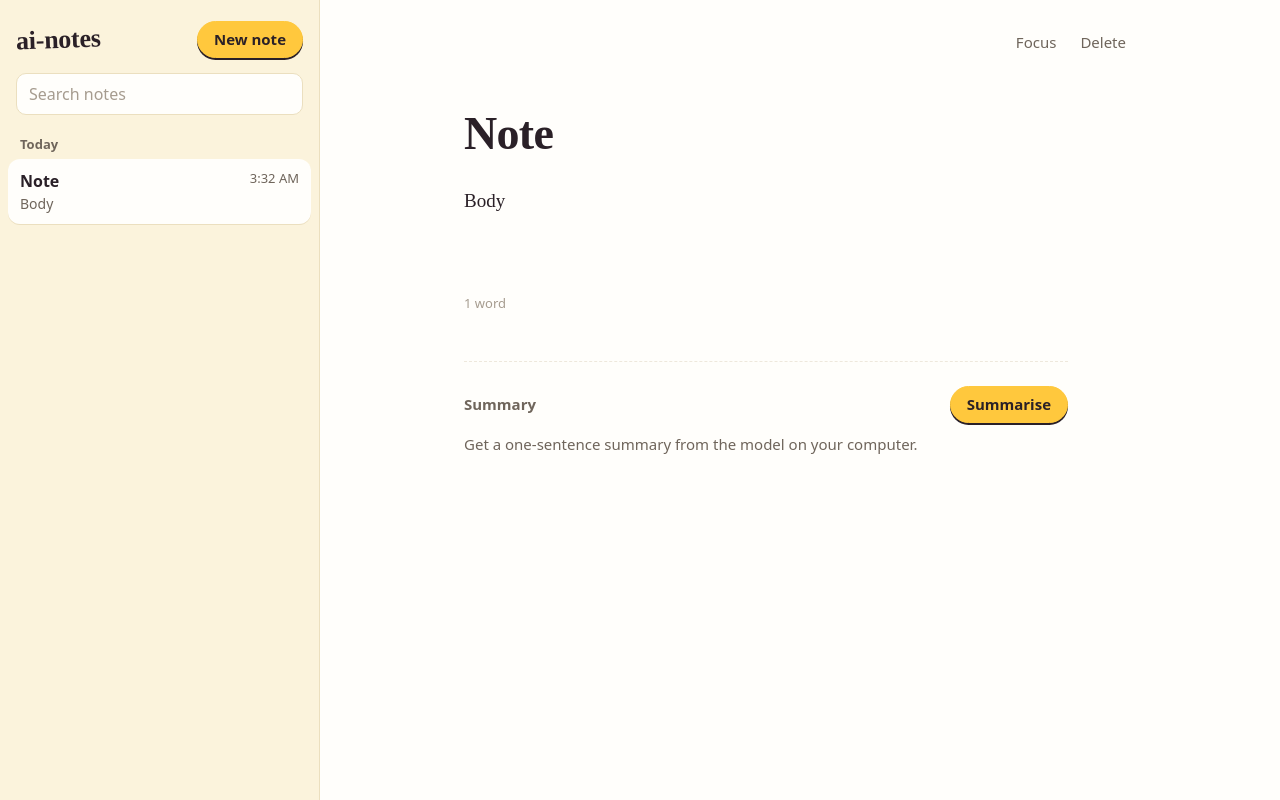
Scenario: the shell › toggles focus mode from the button and the keyboard
Click the button "Focus" at (1036, 42), box [1006, 25, 1066, 59]
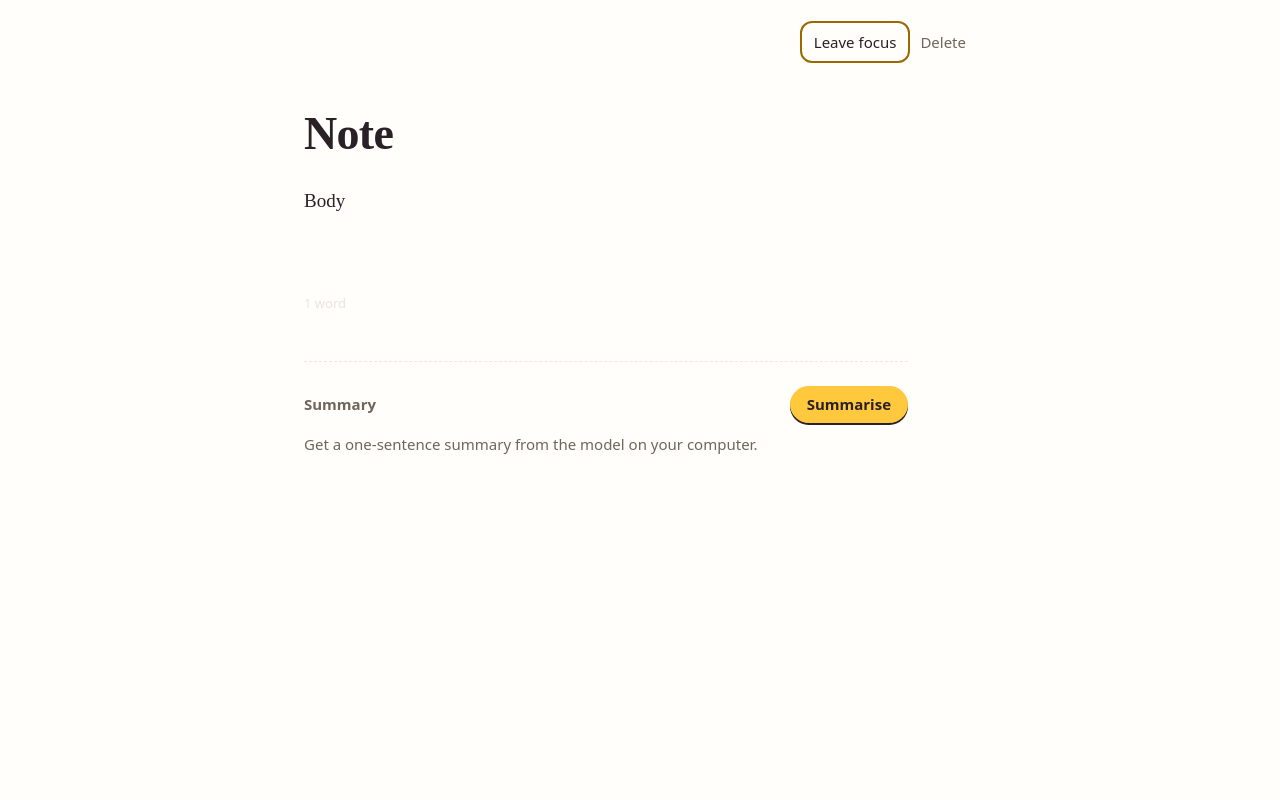
Now the element that starts with "Leave focus" has attribute data-focus="on"
Press Escape
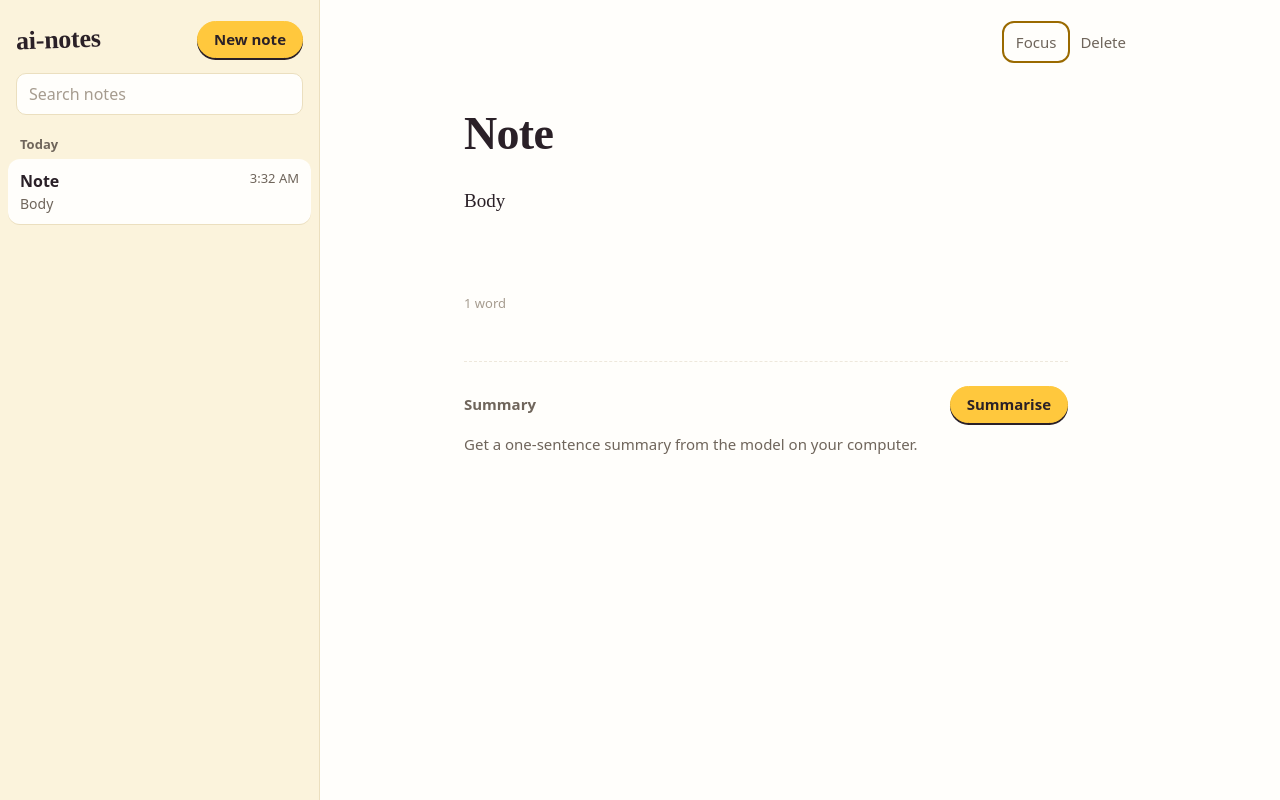
Now the element that starts with "ai-notes" does not have attribute data-focus
Type keys "{Control>}.{/Control}"
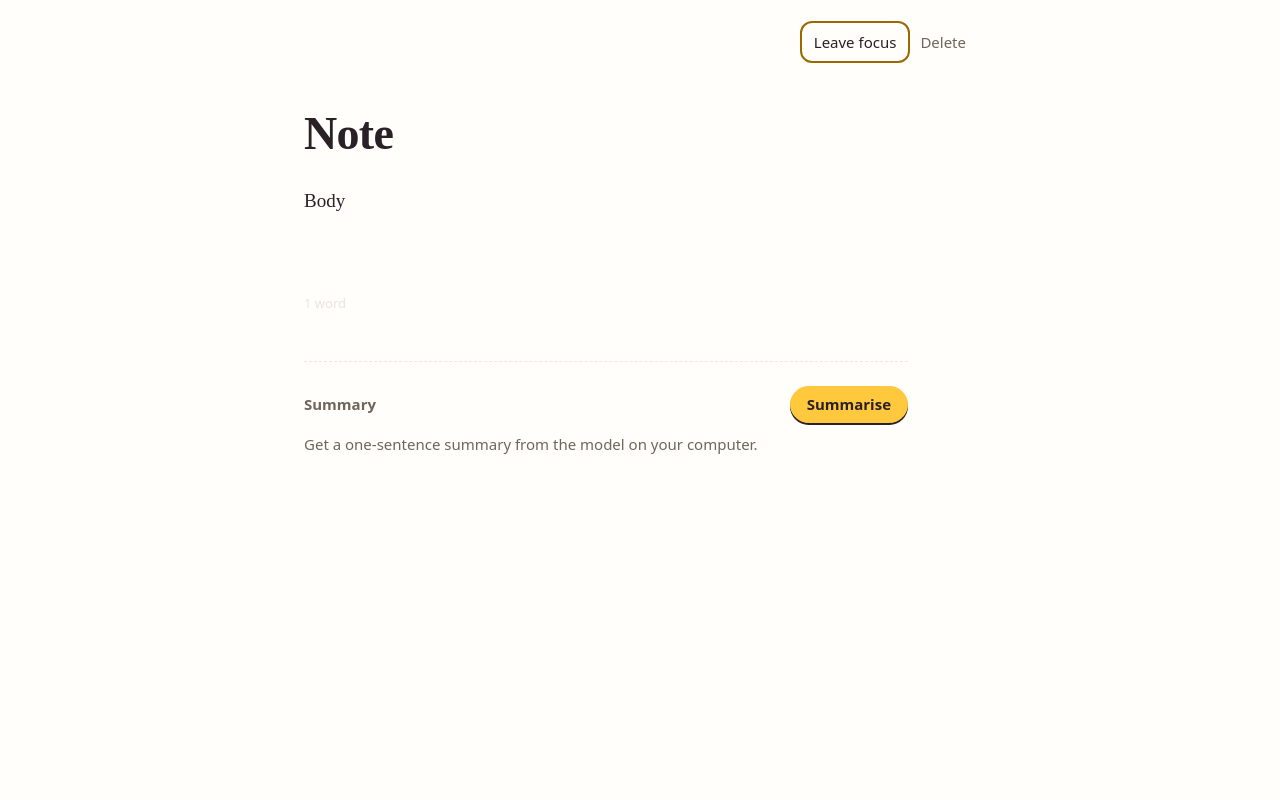
Now the element that starts with "Leave focus" has attribute data-focus="on"
